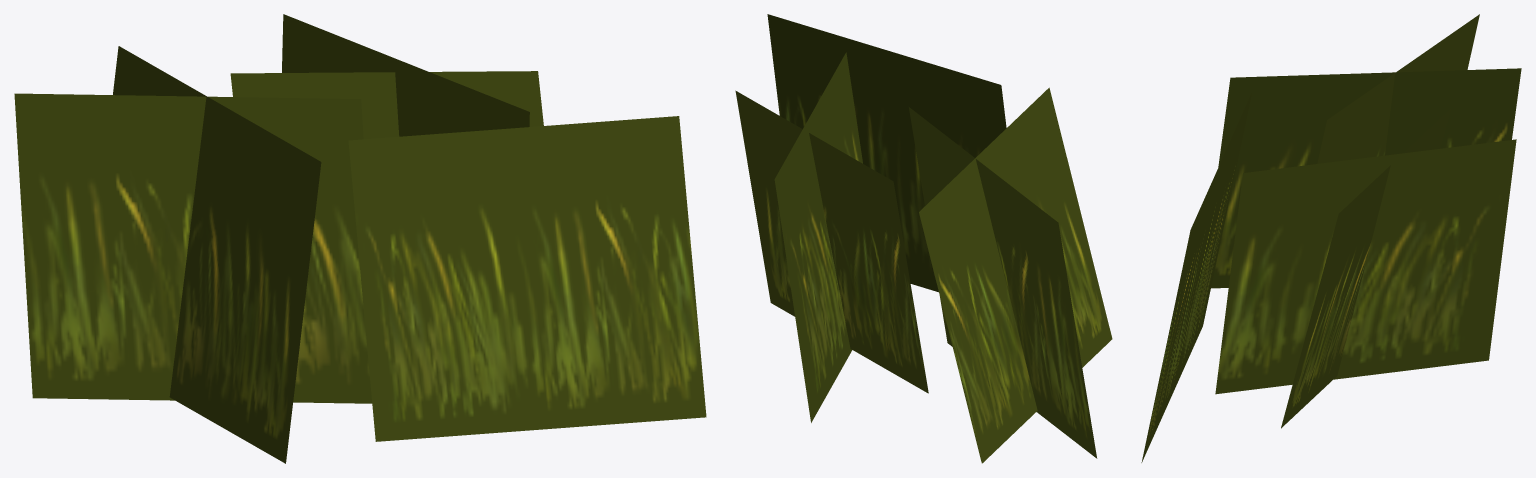
File: bszc_cao1.fbx
3 views of the same model, side by side, from view 1: azimuth 30°, elevation 25°; view 2: azimuth 150°, elevation 25°; view 3: azimuth 270°, elevation 25° (orthographic). The views are drawn at different scales.
Visible parts, largest first — view 1: bszc_cao1; view 2: bszc_cao1; view 3: bszc_cao1.
Part boxes in pixels (<box>): bszc_cao1: <box>14,14,706,463</box>; bszc_cao1: <box>735,14,1112,463</box>; bszc_cao1: <box>1141,14,1521,462</box>.
Size of the model in its own units: 590 by 335 by 458.
